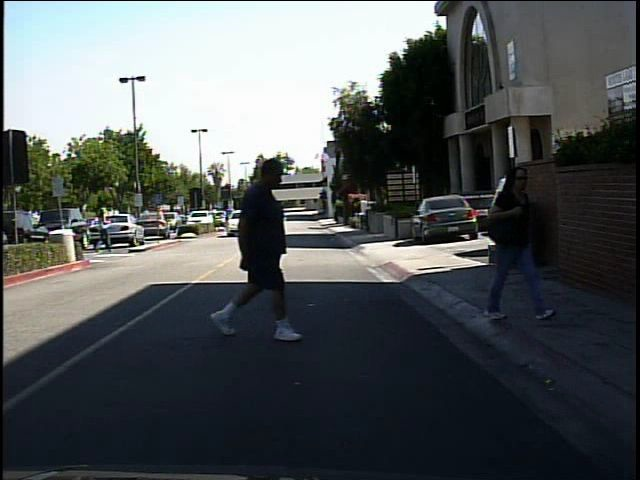person: (213, 151, 319, 343), (475, 156, 553, 330), (93, 203, 115, 256)
